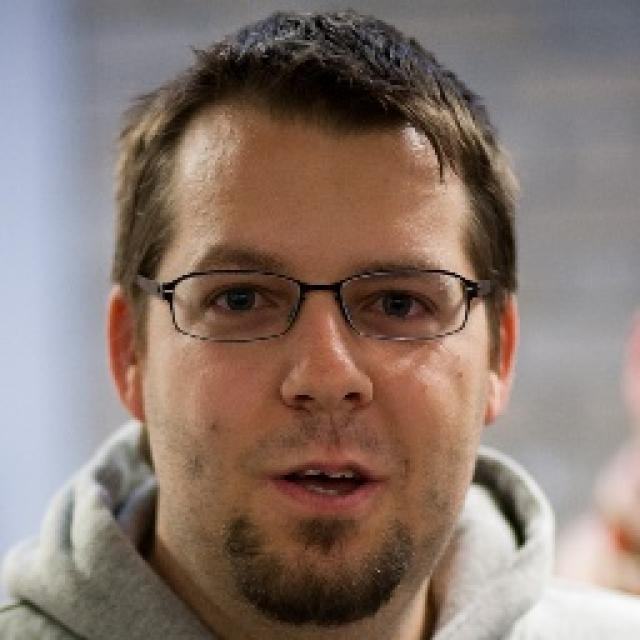earlobe: (102, 284, 145, 428), (483, 284, 518, 424)
